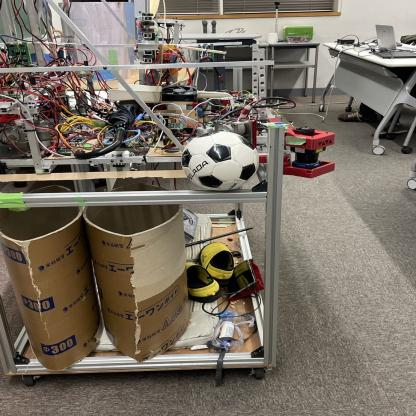ball: (182, 132, 260, 193)
